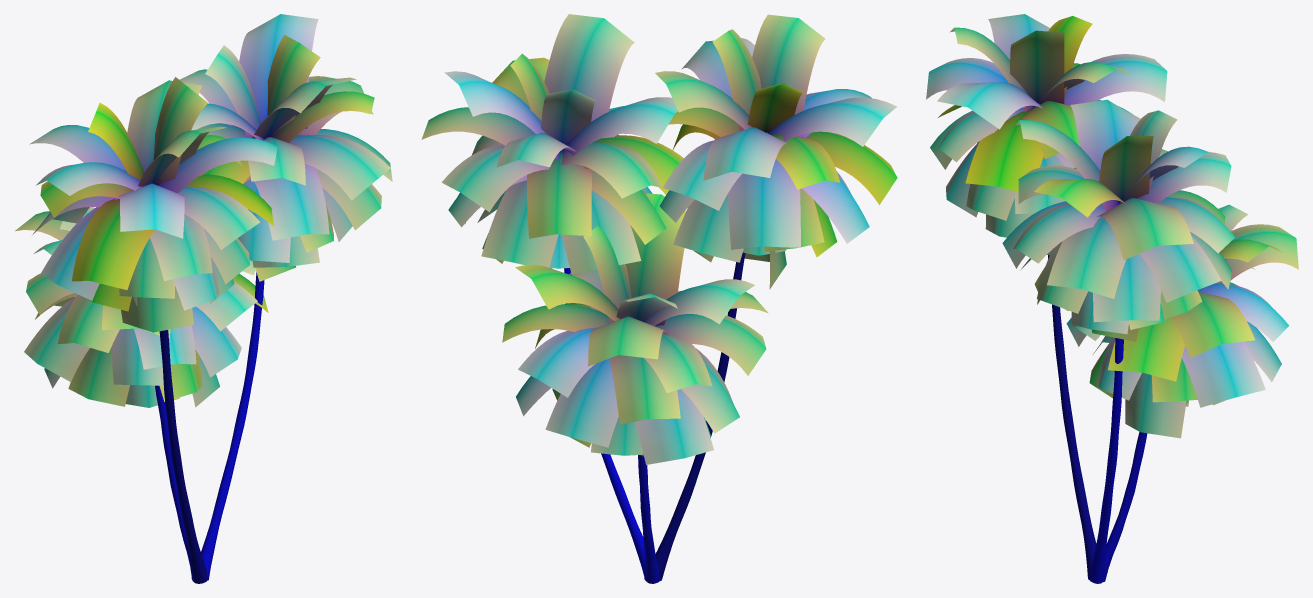
The model's file is palm.glb.
The picture shows the model from 3 angles, left to right: view 1: azimuth 30°, elevation 25°; view 2: azimuth 150°, elevation 25°; view 3: azimuth 270°, elevation 25°; orthographic projection.
Visible parts, largest first — view 1: palm1_lod0, palm0_lod0, palm2_lod0; view 2: palm1_lod0, palm0_lod0, palm2_lod0; view 3: palm0_lod0, palm1_lod0, palm2_lod0.
Boxes of the visible parts, x1,y1,x2,y2 form: palm1_lod0: (29, 77, 277, 583); palm0_lod0: (179, 14, 392, 580); palm2_lod0: (15, 207, 268, 580); palm1_lod0: (655, 14, 897, 581); palm0_lod0: (421, 14, 683, 580); palm2_lod0: (502, 193, 768, 583); palm0_lod0: (1002, 99, 1235, 583); palm1_lod0: (926, 14, 1167, 579); palm2_lod0: (1066, 204, 1298, 581).
Size of what is drawn, in the model's own units: 13.87 by 18.42 by 11.76.
